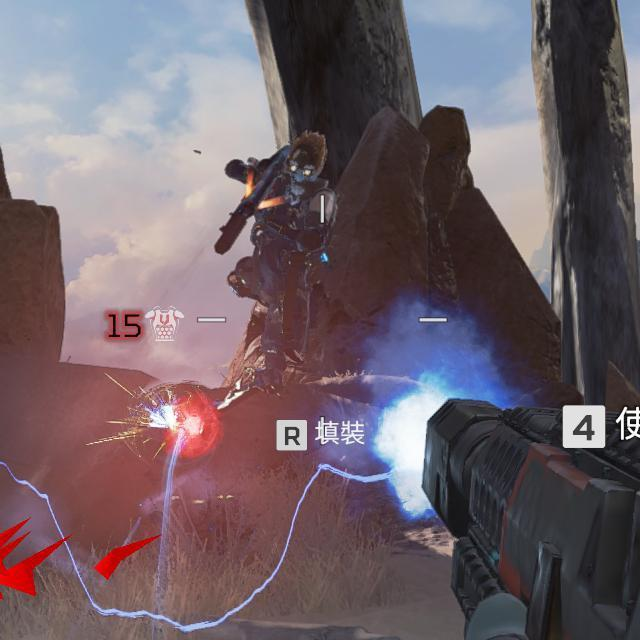avatar: (227, 131, 340, 395)
object: (161, 390, 220, 456)
